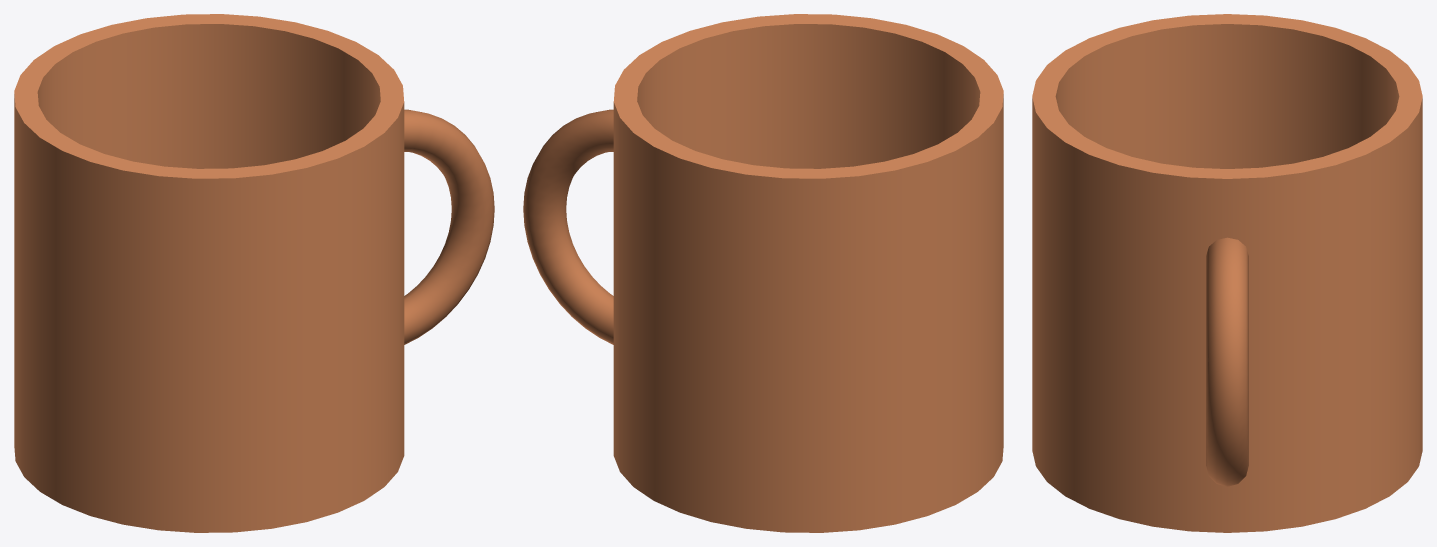
File: taza.glb
3 renders of one model, left to right at view 1: azimuth 30°, elevation 25°; view 2: azimuth 150°, elevation 25°; view 3: azimuth 270°, elevation 25°, orthographic.
Parts seen in each view (by area): view 1: taza; view 2: taza; view 3: taza.
Boxes of the visible parts, <box> form: taza: <box>14,14,494,532</box>; taza: <box>523,14,1003,532</box>; taza: <box>1032,14,1422,532</box>.
Bounding box in the file's own units: 1.34 × 1 × 1.
